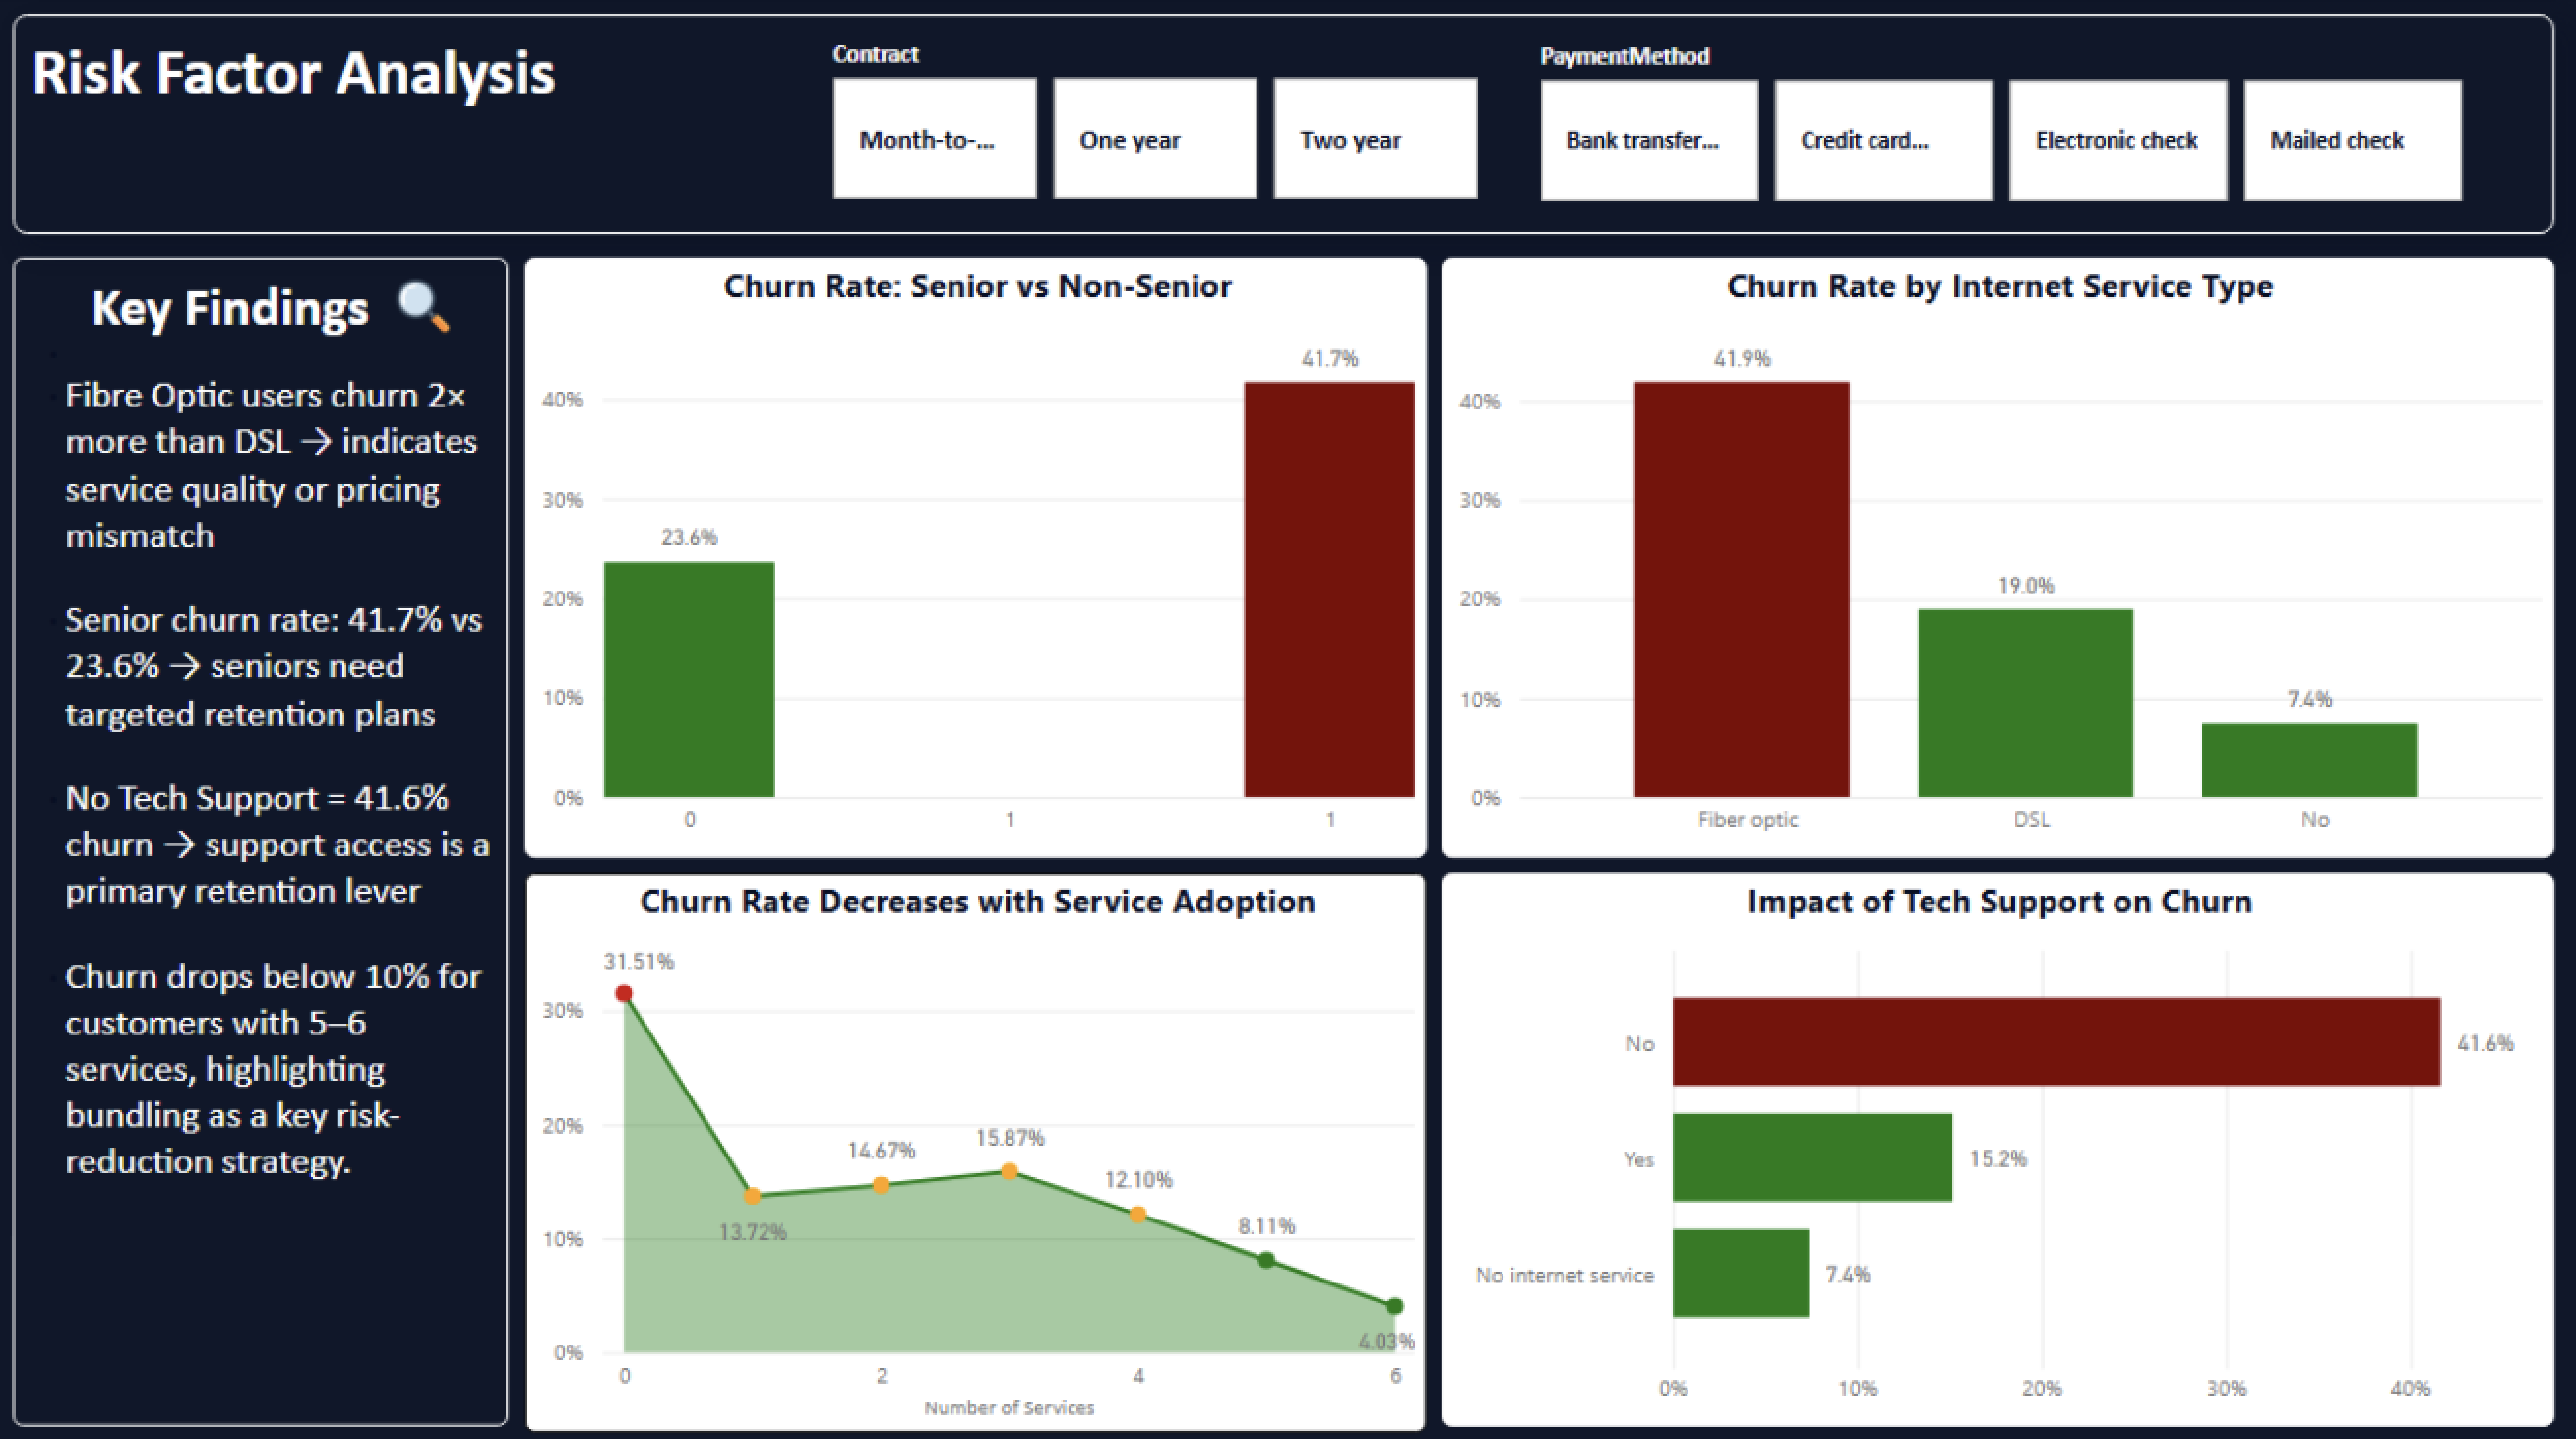

Layout of this report page (visuals, bound fields, positions):
{"tool":"powerbi","page":{"name":"Risk Factor Analysis","canvas":[1280,720],"ordinal":1},"visuals":[{"type":"textbox","box":[11.4,11.4,1257.2,109],"z":0},{"type":"clusteredColumnChart","title":"Churn Rate by Internet Service Type","fields":{"Category":["Customer_Churn_Analyzed.InternetService"],"Y":["Customer_Churn_Analyzed.Churn Rate"]},"box":[718.4,131.8,550.2,296.9],"z":1000},{"type":"clusteredBarChart","title":"Impact of Tech Support on Churn","fields":{"Y":["Customer_Churn_Analyzed.Churn Rate"],"Category":["Customer_Churn_Analyzed.TechSupport"]},"box":[718.4,436,550.2,274.1],"z":2000},{"type":"clusteredColumnChart","title":"Churn Rate: Senior vs Non-Senior","fields":{"Y":["Customer_Churn_Analyzed.Churn Rate"],"Category":["Customer_Churn_Analyzed.SeniorCitizen"]},"box":[264.7,131.8,446.4,296.9],"z":3000},{"type":"textbox","box":[11.4,131.8,245,578.2],"z":4000},{"type":"advancedSlicerVisual","fields":{"Values":["Customer_Churn_Analyzed.Contract"]},"box":[412.1,23.9,329.1,84.1],"z":5000},{"type":"advancedSlicerVisual","fields":{"Values":["Customer_Churn_Analyzed.PaymentMethod"]},"box":[762,24.9,468.2,84.1],"z":6000},{"type":"lineChart","title":"Churn Rate Decreases with Service Adoption","fields":{"Category":["Customer_Churn_Analyzed.num_services"],"Y":["CountNonNull(Customer_Churn_Analyzed.Churn)"]},"box":[264.7,436,446.4,277.2],"z":7000},{"type":"image","box":[196.2,98.6,36.3,114.2],"z":7001}]}

Visuals, with their boxes in screenshot pixels (x1, y1, x2, y2), scaled from the page's 1280x720 canvas onto the 2576x1439 screenshot:
textbox: select_region(23, 23, 2553, 240)
"Churn Rate by Internet Service Type" clusteredColumnChart: select_region(1445, 264, 2553, 856)
"Impact of Tech Support on Churn" clusteredBarChart: select_region(1445, 871, 2553, 1419)
"Churn Rate: Senior vs Non-Senior" clusteredColumnChart: select_region(532, 264, 1431, 856)
textbox: select_region(23, 264, 516, 1419)
advancedSlicerVisual - Customer_Churn_Analyzed.Contract: select_region(829, 48, 1492, 216)
advancedSlicerVisual - Customer_Churn_Analyzed.PaymentMethod: select_region(1534, 50, 2476, 218)
"Churn Rate Decreases with Service Adoption" lineChart: select_region(532, 871, 1431, 1425)
image: select_region(395, 197, 468, 425)
